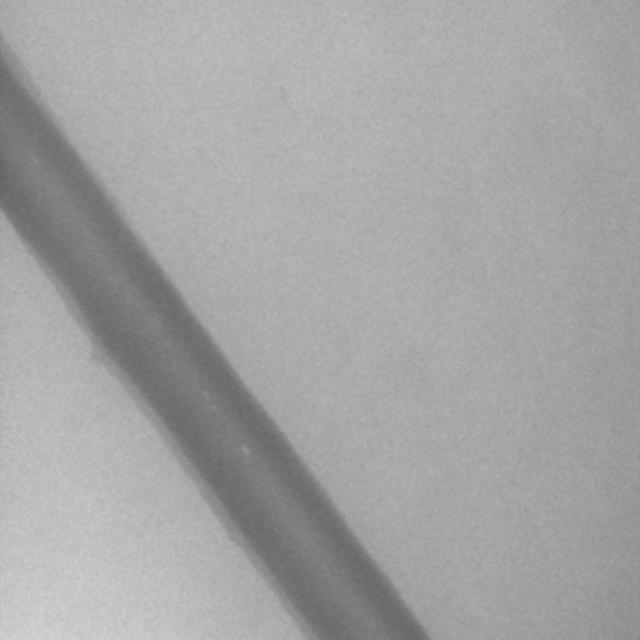air-hole: (31, 151, 44, 167), (240, 441, 248, 459), (201, 386, 208, 401), (212, 398, 216, 414)
